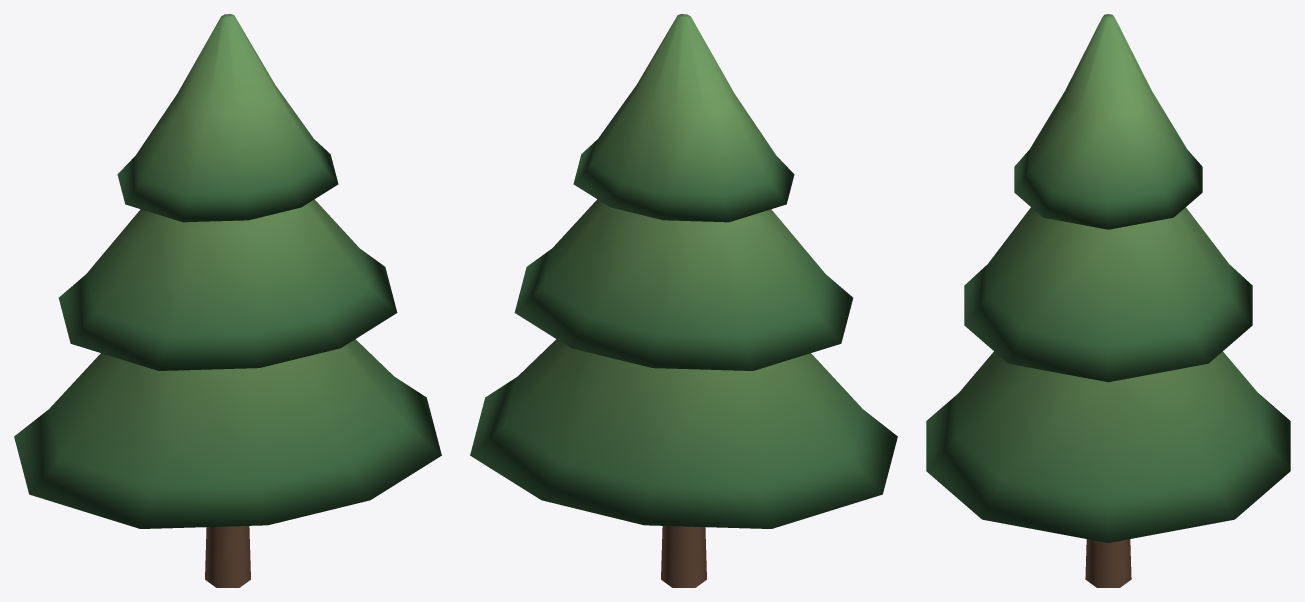
The model's file is env_sky_pine_c.glb.
3 views of the same model, side by side, from view 1: azimuth 30°, elevation 25°; view 2: azimuth 150°, elevation 25°; view 3: azimuth 270°, elevation 25° (orthographic).
Parts seen in each view (by area): view 1: SM_sky_sky_vc_x0_z0.004; view 2: SM_sky_sky_vc_x0_z0.004; view 3: SM_sky_sky_vc_x0_z0.004.
Boxes of the visible parts, left/top/right/bottom form: SM_sky_sky_vc_x0_z0.004: left=14, top=14, right=441, bottom=587; SM_sky_sky_vc_x0_z0.004: left=470, top=14, right=897, bottom=587; SM_sky_sky_vc_x0_z0.004: left=926, top=14, right=1290, bottom=587.
Size of the model in its own units: 2.59 by 3.5 by 2.06.
